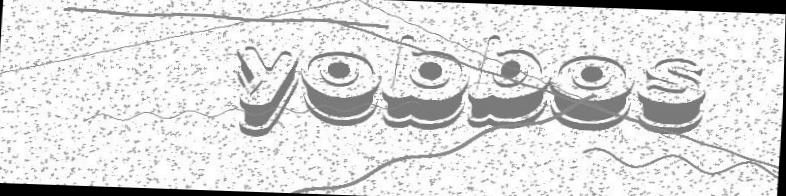b: (380, 33, 471, 134), (466, 34, 551, 137)
o: (547, 53, 641, 136), (298, 49, 388, 128)
s: (633, 50, 710, 134)
y: (222, 42, 302, 138)
